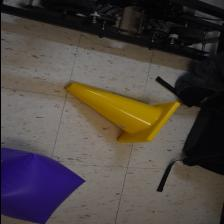cone: (64, 80, 180, 142)
cube: (0, 148, 85, 224)
